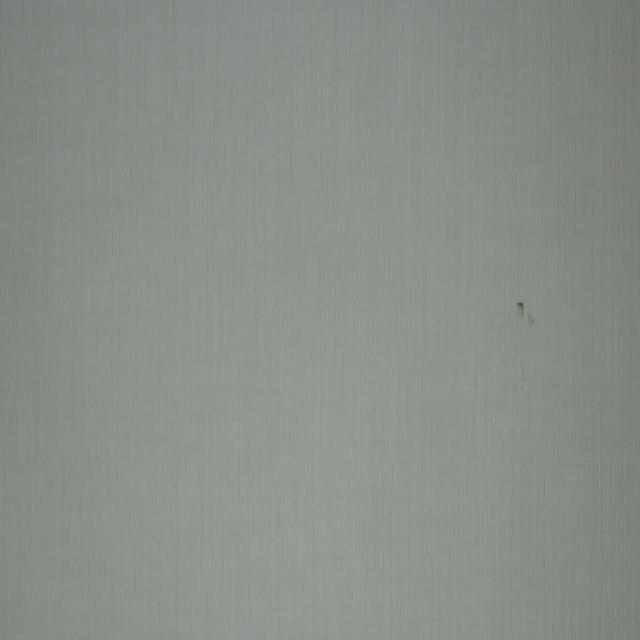dirty: (517, 299, 524, 315), (528, 314, 536, 324)
